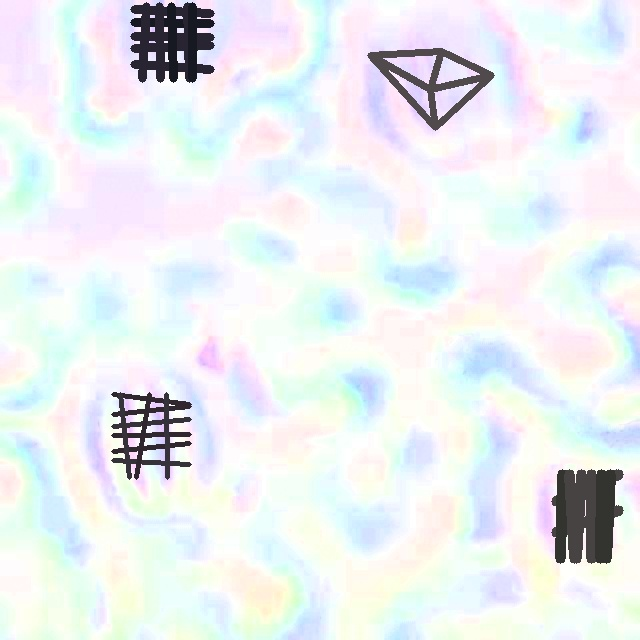open: (367, 48, 494, 130), (111, 392, 191, 479), (551, 469, 622, 562), (130, 3, 213, 82)
